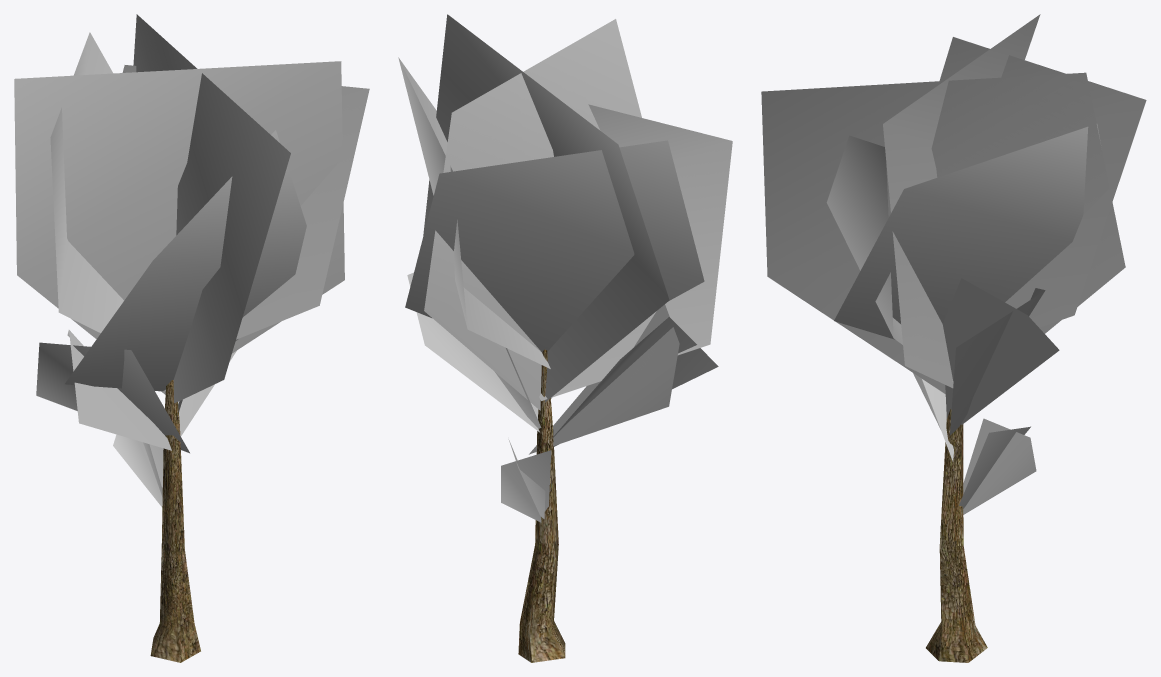
The model's file is tree 7.FBX.
3 renders of one model, left to right at view 1: azimuth 30°, elevation 25°; view 2: azimuth 150°, elevation 25°; view 3: azimuth 270°, elevation 25°, orthographic. The views are drawn at different scales.
Parts seen in each view (by area): view 1: MepTree6_64; view 2: MepTree6_64; view 3: MepTree6_64.
Part boxes in pixels (x1,y1,x2,y2): MepTree6_64: (14,14,369,662); MepTree6_64: (398,14,732,662); MepTree6_64: (761,14,1146,662).
Size of the model in its own units: 73.9 by 132 by 77.45.
